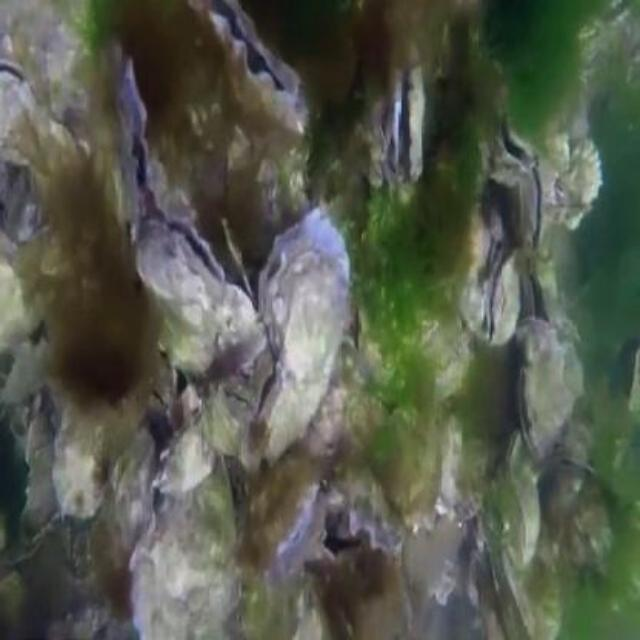Oyster-Closed: (129, 456, 240, 638), (0, 62, 82, 244), (52, 401, 134, 519), (517, 340, 584, 460), (501, 522, 560, 638), (506, 427, 542, 561), (155, 413, 214, 493), (563, 137, 602, 229)
Oyster-Open: (245, 210, 351, 464), (137, 219, 266, 381), (186, 0, 311, 136), (114, 55, 158, 227), (493, 121, 543, 254), (391, 50, 425, 179), (349, 475, 404, 553), (487, 249, 521, 346)
